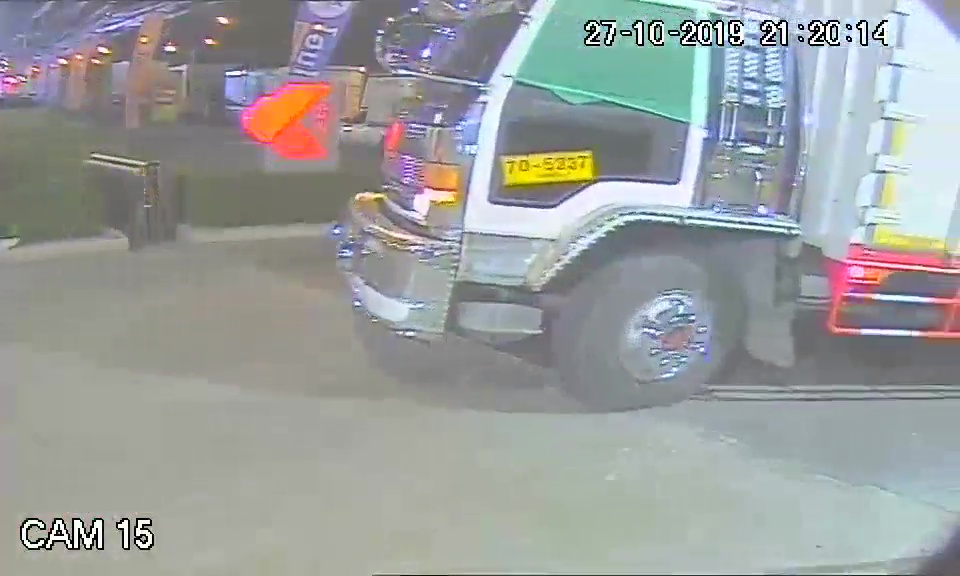truck: (337, 5, 807, 411)
